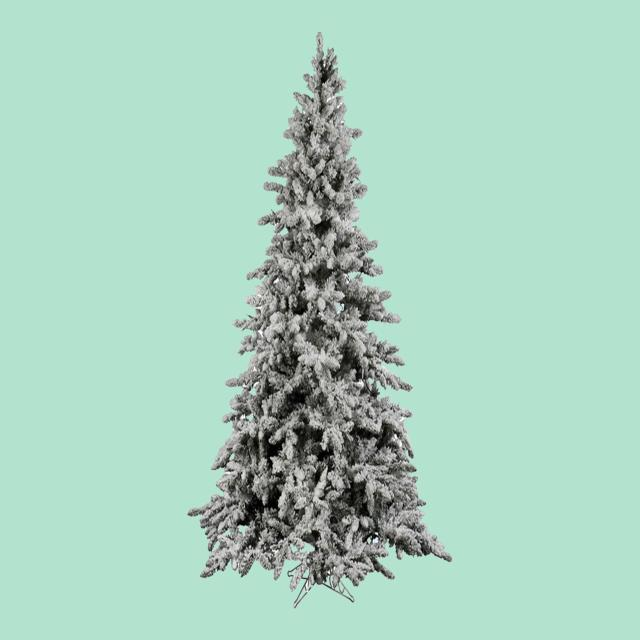Christmas-tree: (162, 9, 470, 590)
